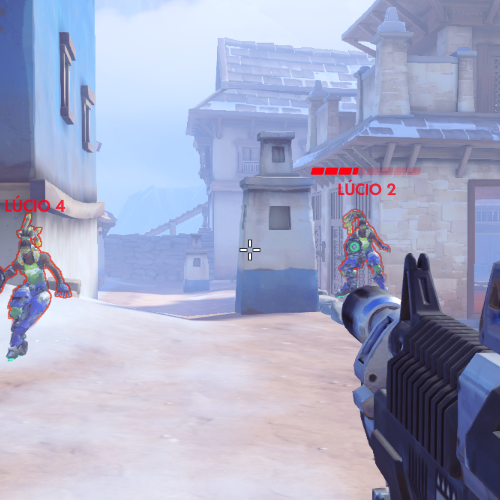hpbar: (311, 167, 422, 175)
